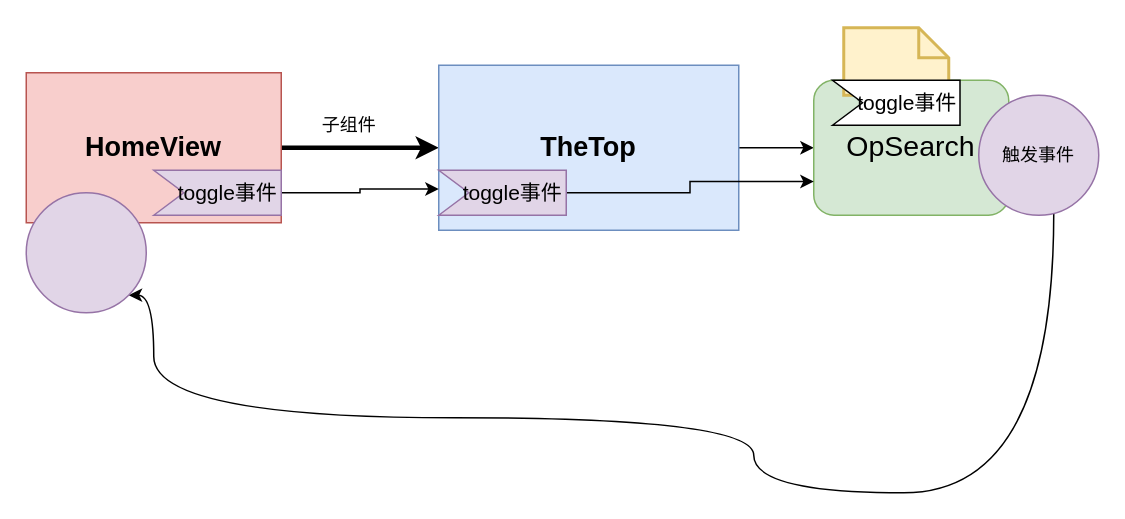
The diagram is 1125 pixels wide and 519 high, and some of its shapes have lost their labels. Each missing label, with the centre of its shape:
click触发: (896,61)
做出响应: (85,252)
